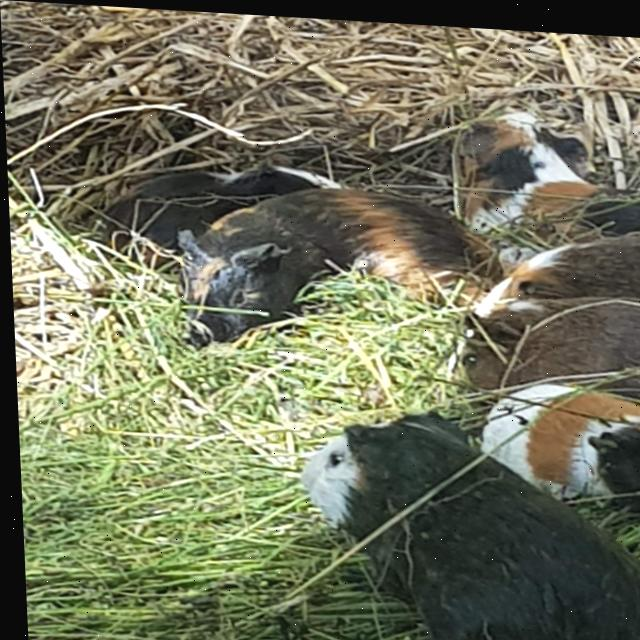guinea pig: (281, 396, 640, 640), (83, 175, 511, 357), (442, 100, 640, 237), (432, 284, 640, 391)
